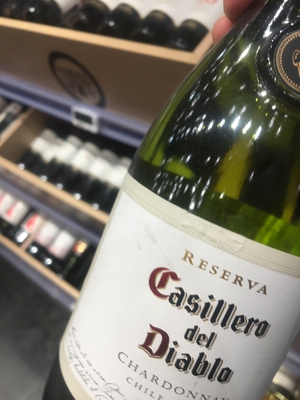casillero del diablo chardonnay: (61, 58, 297, 400)
